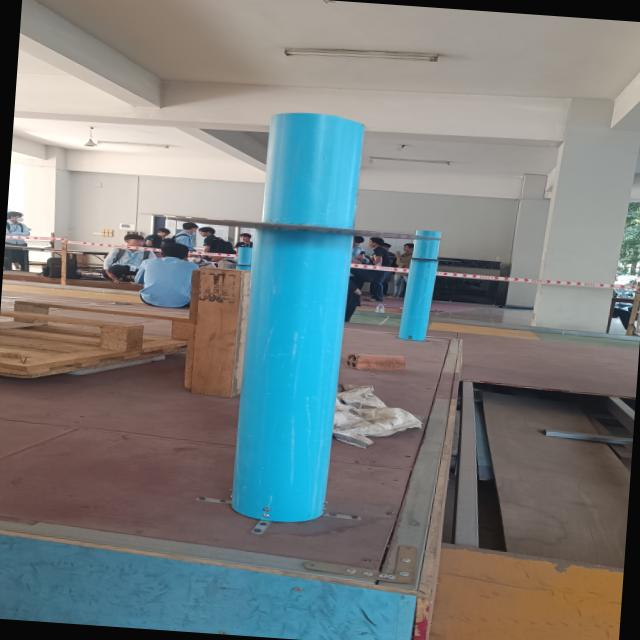pole: (162, 101, 434, 353)
